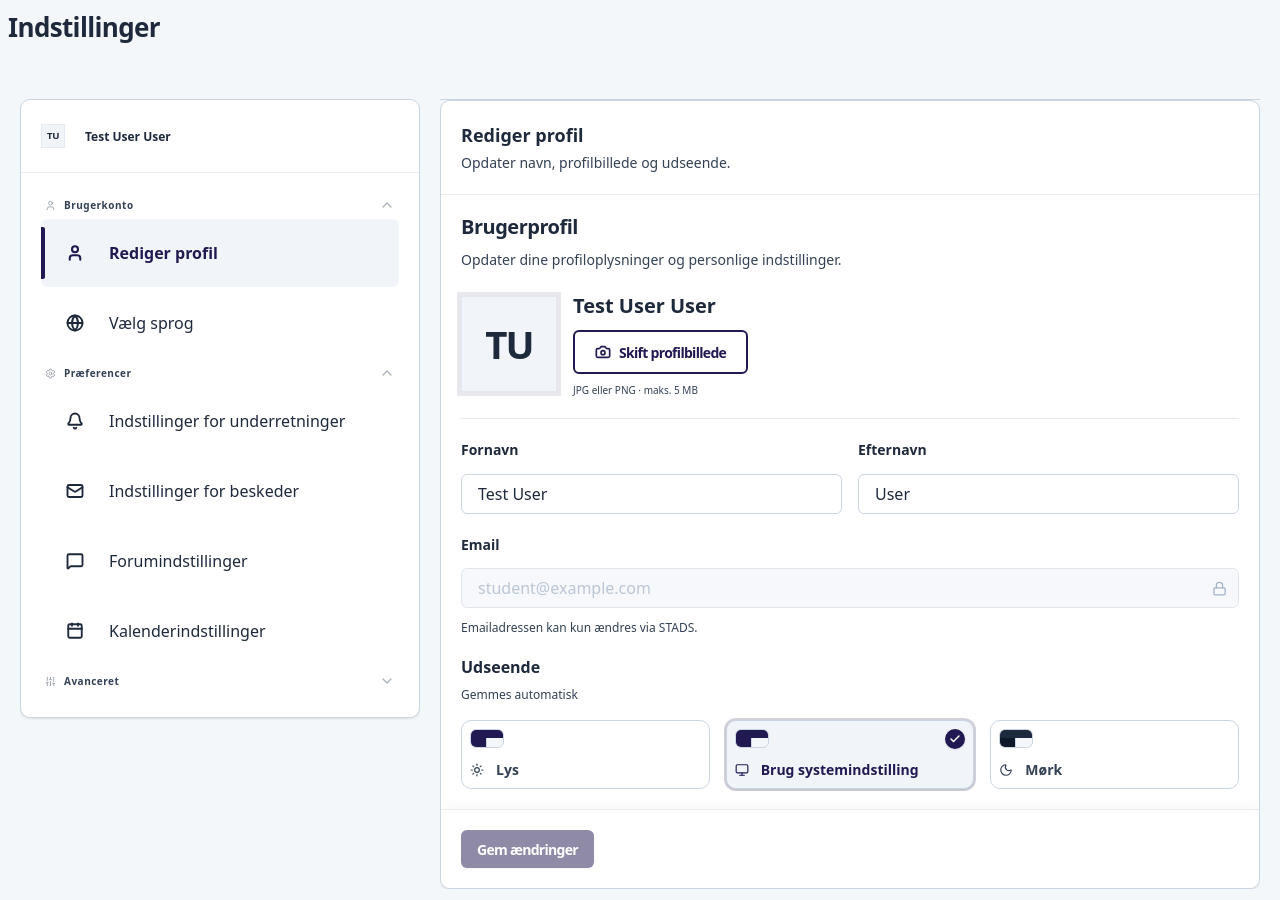
Scenario: Settings Page › shows empty state for non-profile tabs
Click the button "Avanceret" at x=92, y=681, box [41, 669, 399, 693]
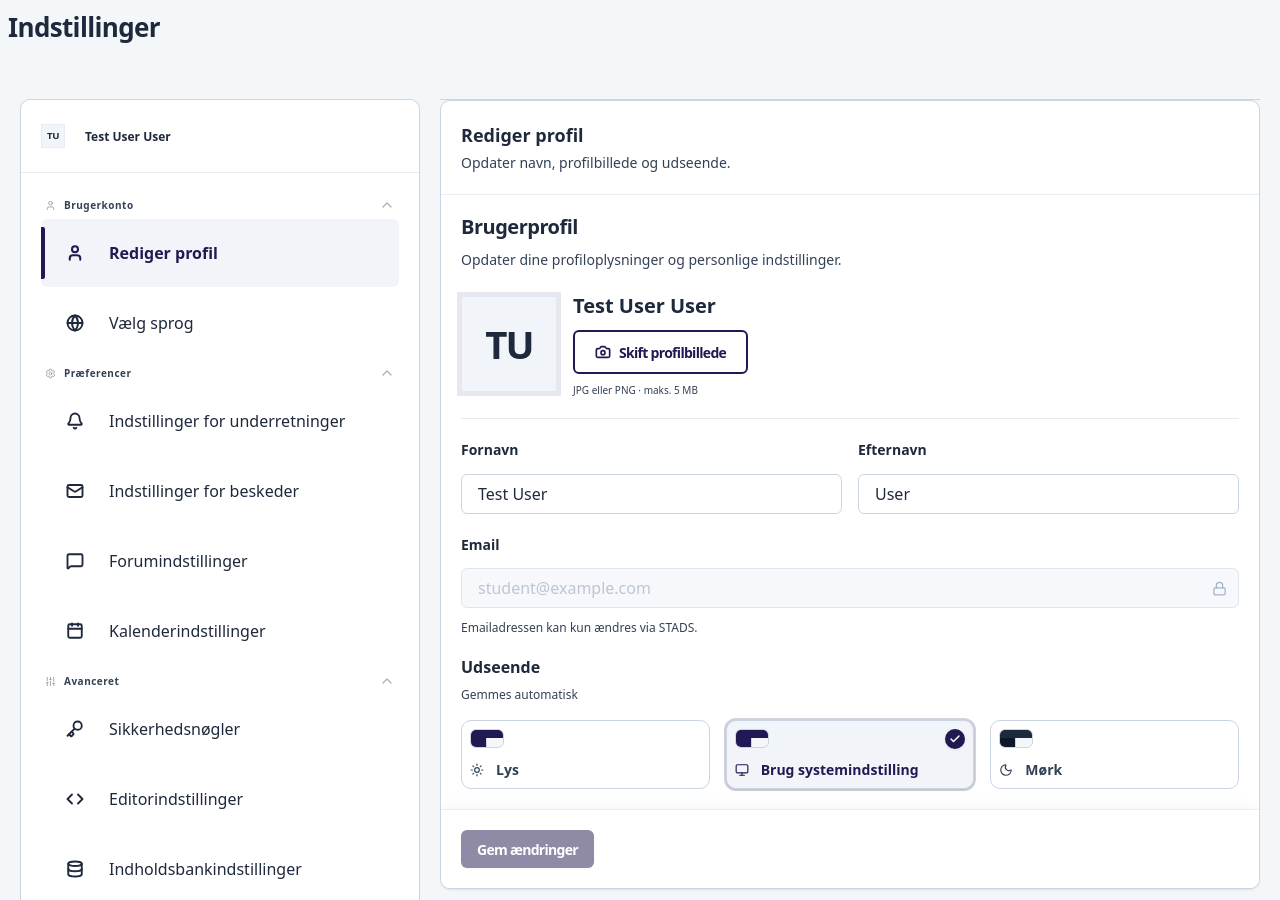
Click the button "Sikkerhedsnøgler" at x=220, y=729, box [41, 695, 399, 763]
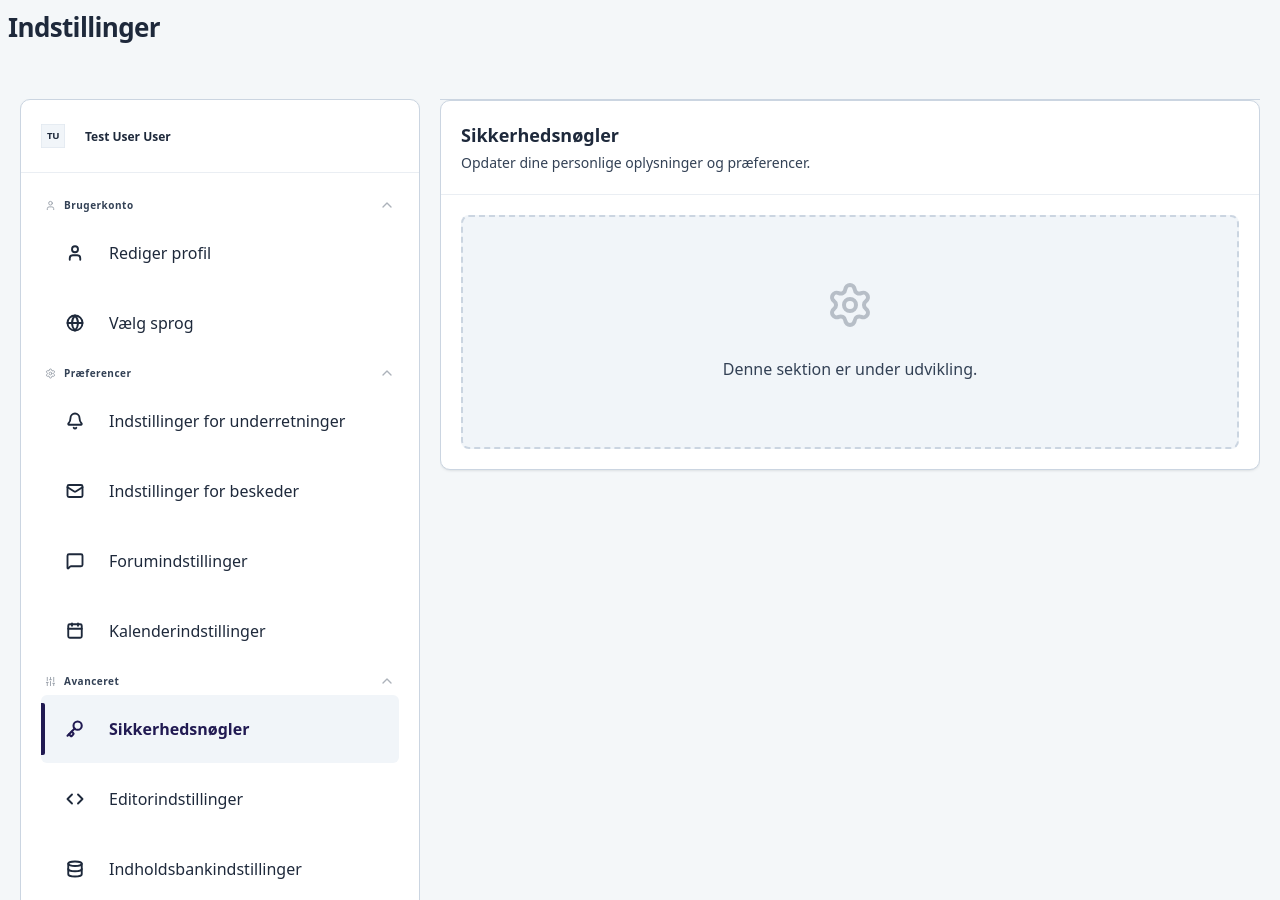
expect the text "Denne sektion er under udvikling." is shown: met, box [723, 357, 977, 383]
